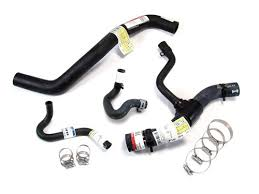radiator_hose: (14, 15, 178, 95), (125, 84, 241, 151), (36, 102, 112, 148), (103, 69, 147, 119)
